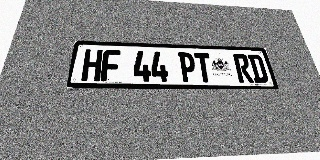4: (133, 51, 151, 82), (151, 51, 169, 82)
D: (247, 54, 269, 83)
F: (100, 50, 120, 81)
H: (81, 49, 103, 81)
P: (178, 52, 197, 82)
R: (233, 54, 254, 83)
T: (194, 53, 214, 82)
